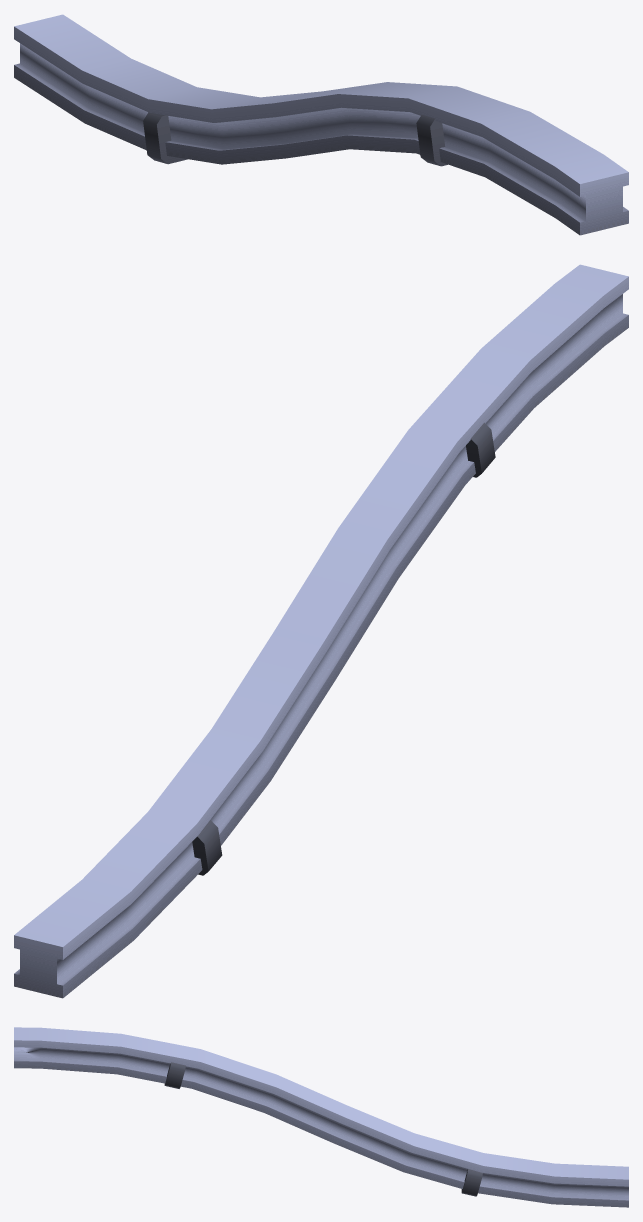
File: coaster-monorail-straight-hill-complete.glb
3 views of the same model, one above another, from view 1: azimuth 30°, elevation 25°; view 2: azimuth 150°, elevation 25°; view 3: azimuth 270°, elevation 25° (orthographic). The views are drawn at different scales.
Parts seen in each view (by area): view 1: coaster-monorail-straight-hill-complete; view 2: coaster-monorail-straight-hill-complete; view 3: coaster-monorail-straight-hill-complete.
Boxes of the visible parts, box(x1,y1,x2,y2) form: coaster-monorail-straight-hill-complete: box(14, 14, 628, 235); coaster-monorail-straight-hill-complete: box(14, 264, 628, 998); coaster-monorail-straight-hill-complete: box(14, 1027, 628, 1207).
Size of the model in its own units: 0.75 by 3.6 by 12.
Materials: 1 (1 with a texture image).
